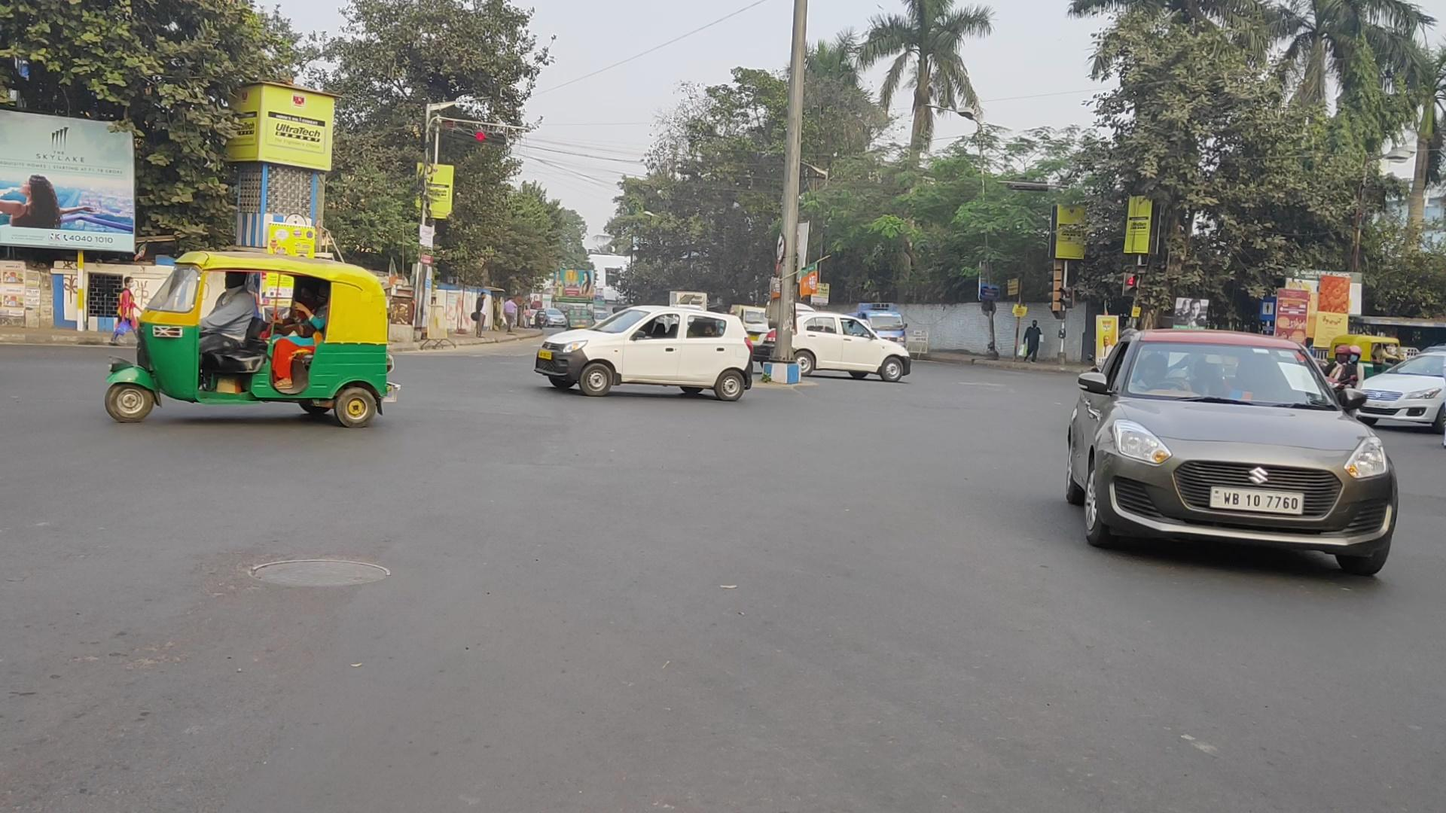Auto: (105, 251, 401, 428), (1329, 333, 1408, 394)
car: (1066, 327, 1399, 578), (535, 304, 754, 402), (749, 311, 911, 382), (1357, 348, 1446, 436)
